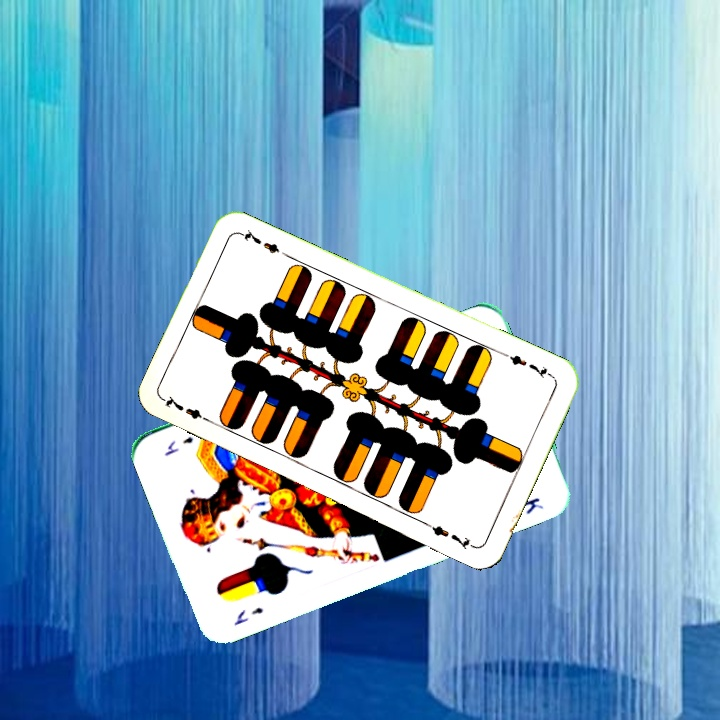E7: (160, 391, 216, 426), (499, 349, 555, 381)
EK: (229, 603, 266, 627)
